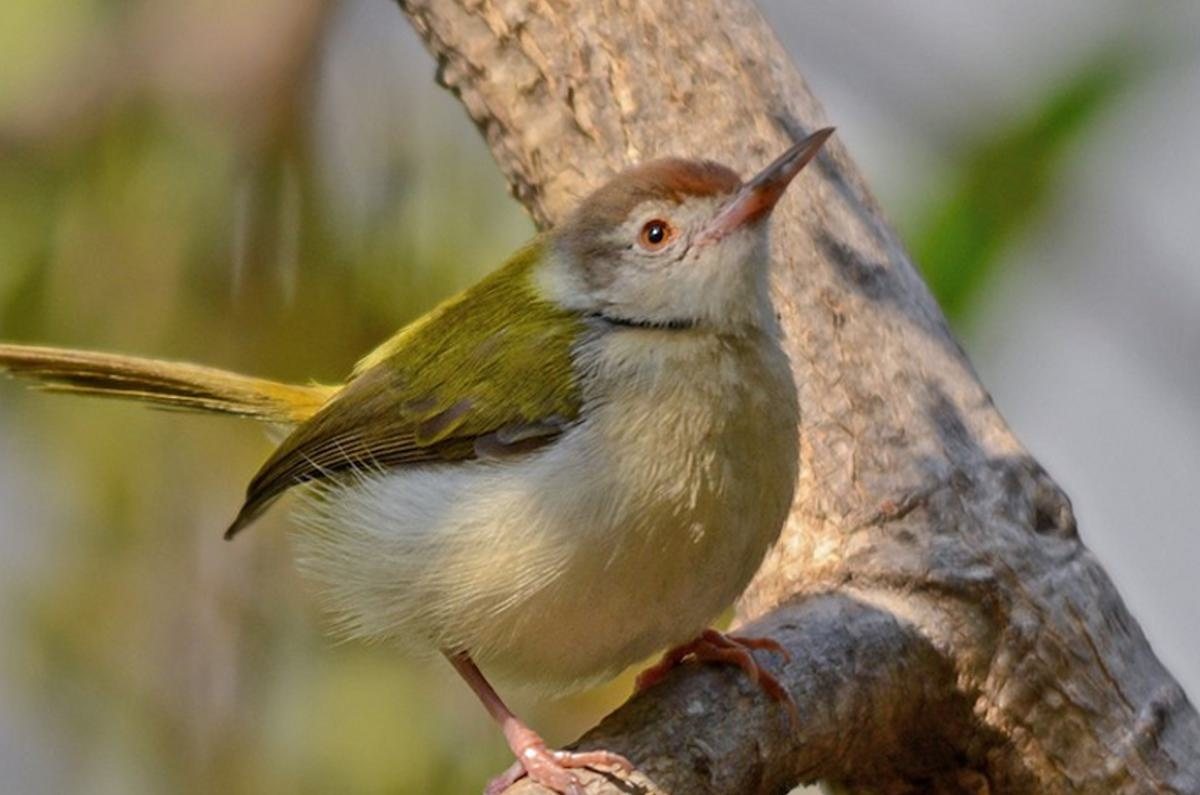tailorbird: (129, 112, 847, 700)
